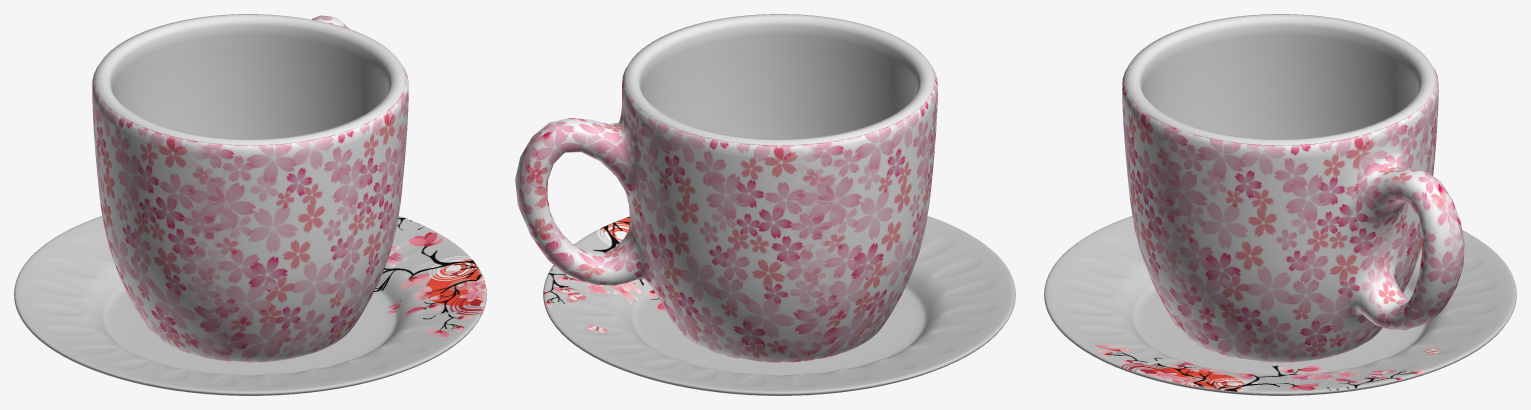
The model's file is cup_and_saucer.glb.
3 views of the same model, side by side, from view 1: azimuth 30°, elevation 25°; view 2: azimuth 150°, elevation 25°; view 3: azimuth 270°, elevation 25° (orthographic).
Parts seen in each view (by area): view 1: Circle.001, Circle; view 2: Circle.001, Circle; view 3: Circle.001, Circle.
Boxes of the visible parts, <box> form: Circle.001: <box>92,14,408,362</box>; Circle: <box>14,216,486,395</box>; Circle.001: <box>515,14,937,362</box>; Circle: <box>543,216,1015,395</box>; Circle.001: <box>1122,14,1464,362</box>; Circle: <box>1044,216,1516,395</box>.
Bounding box in the file's own units: 0.2181 × 0.1243 × 0.2181.
3 materials, 2 textured.
